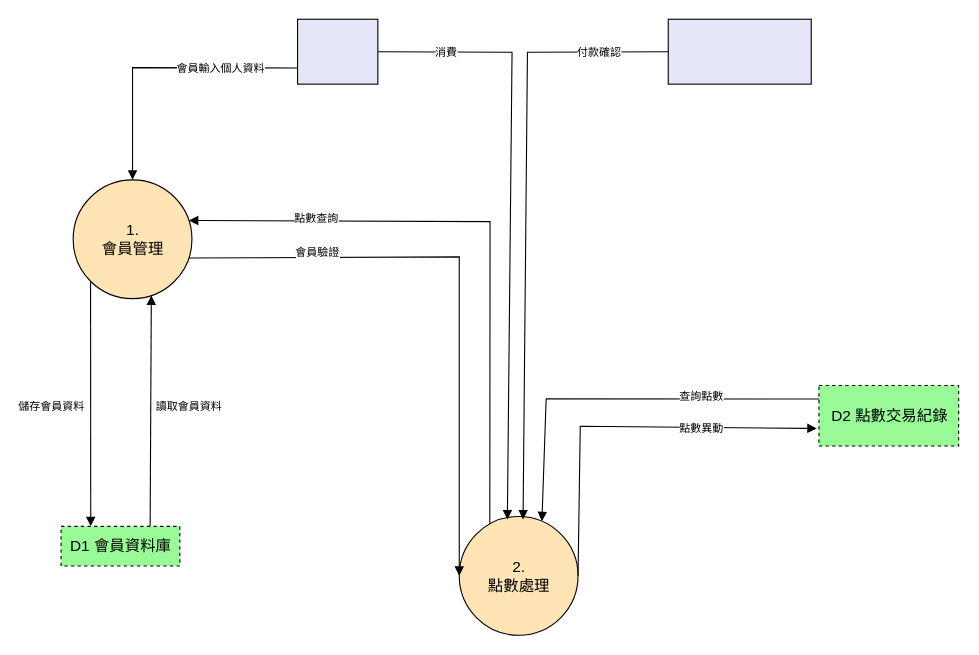
This 979x655 diagram has some shape labels left out. The shapes that lost their labels are listed below. From the top down, each one's centre as x and y in pixels, then its label:
the point at 337,51: 會員
the point at 739,51: 銀行支付系統
